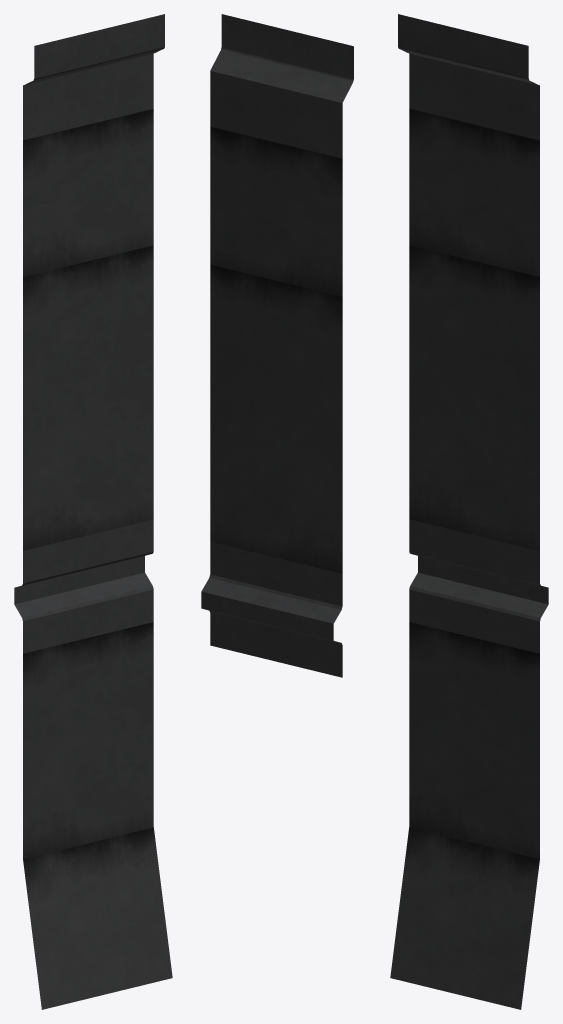
File: M_Wall_Straight_2x14_v4.fbx
3 views of the same model, side by side, from view 1: azimuth 30°, elevation 25°; view 2: azimuth 150°, elevation 25°; view 3: azimuth 330°, elevation 25° (orthographic).
Visible parts, largest first — view 1: Wall_Straight_2x14_v4; view 2: Wall_Straight_2x14_v4; view 3: Wall_Straight_2x14_v4.
Boxes of the visible parts, x1,y1,x2,y2 form: Wall_Straight_2x14_v4: [14, 14, 172, 1009]; Wall_Straight_2x14_v4: [201, 14, 353, 677]; Wall_Straight_2x14_v4: [390, 14, 548, 1009].
Size of the model in its own units: 200 by 1400 by 73.02.
